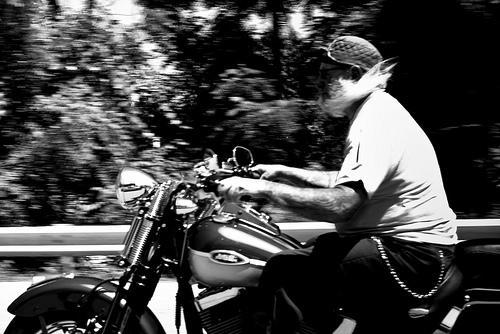motorcycle: (6, 148, 500, 330)
